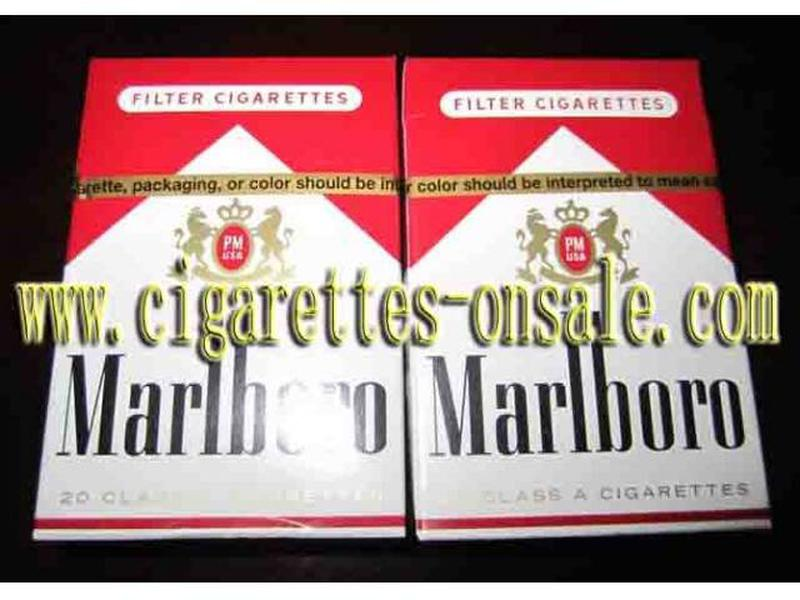marlboro_red: (61, 62, 407, 539), (409, 61, 744, 527)
